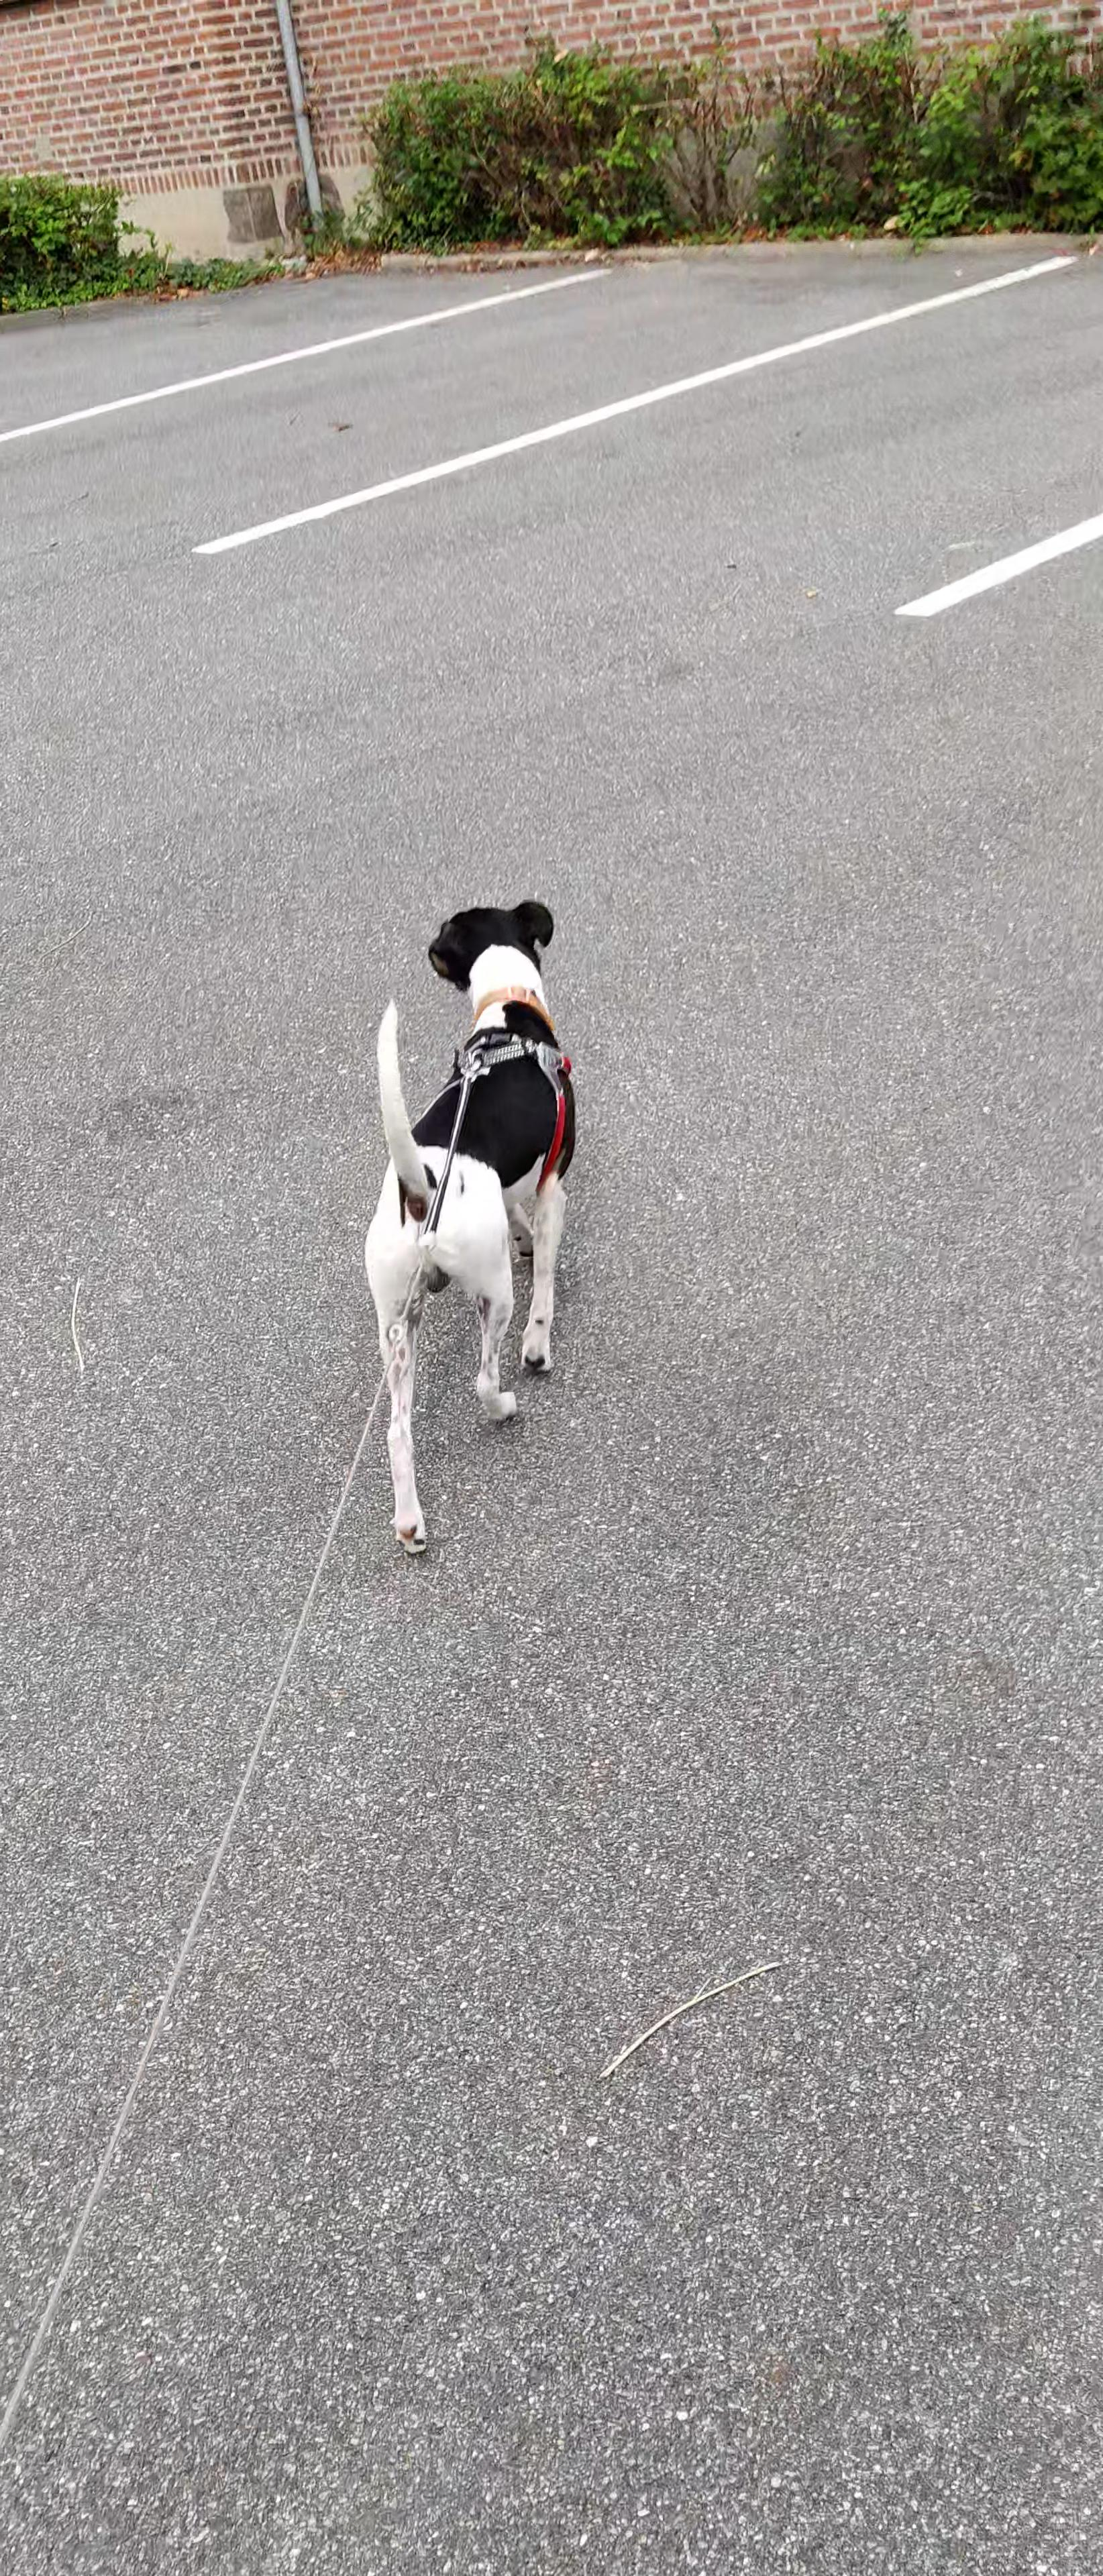Dog: (350, 895, 582, 1557)
